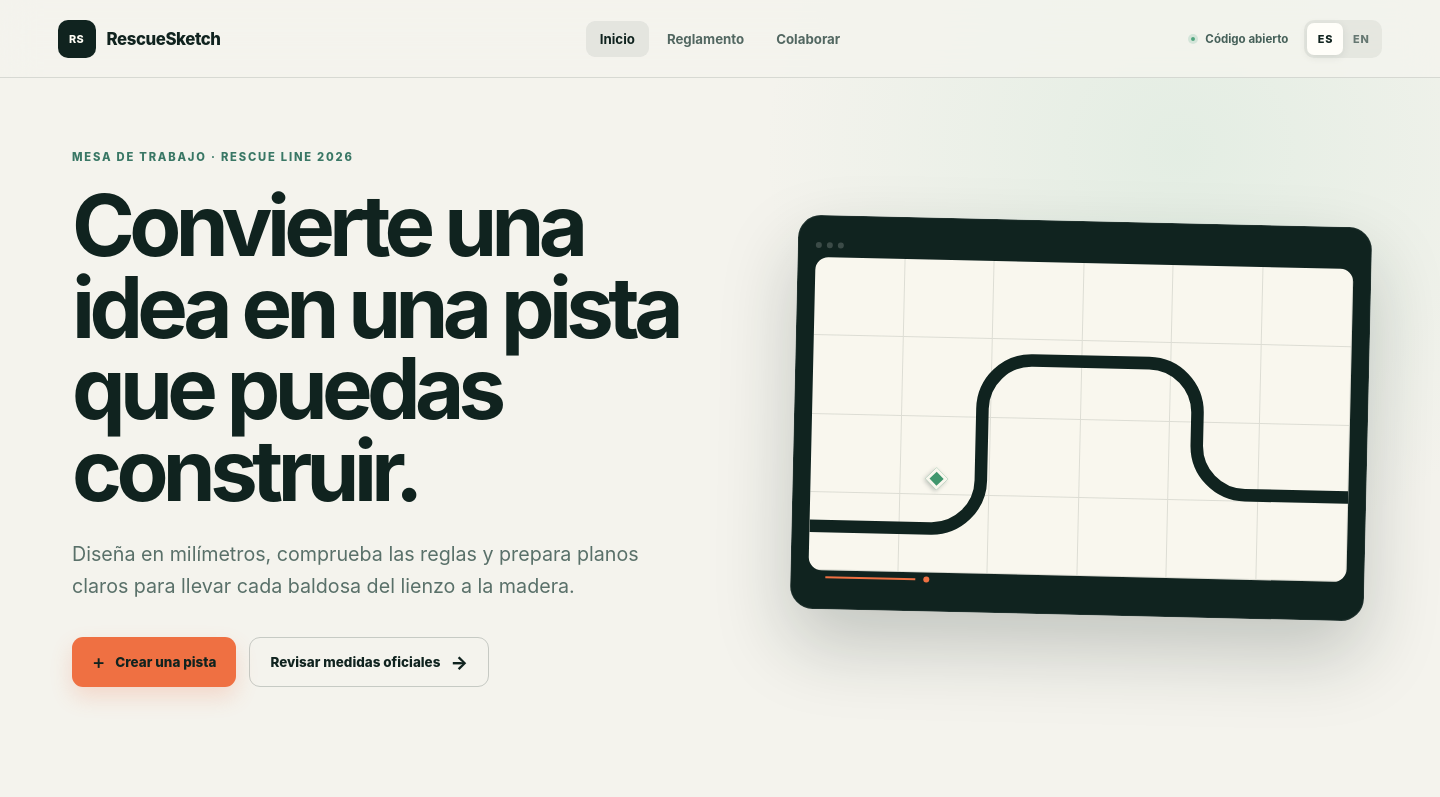
RescueSketchApp › keeps the selected language while navigating to the editor
Step 1. Click the button with aria-label "Cambiar idioma a inglés" → (1361, 38), box [1343,22,1379,54]
(page scrolled)
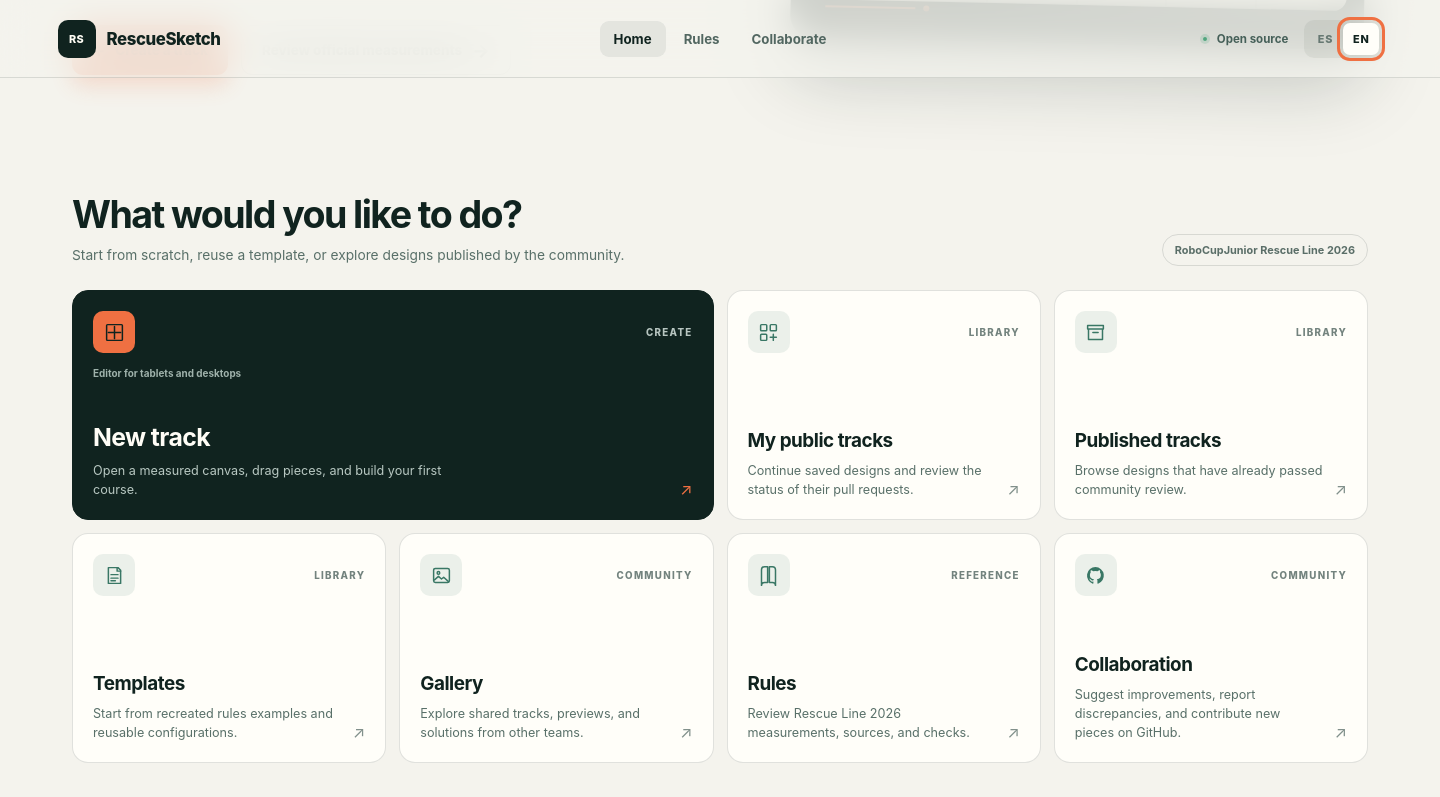
Step 2. Click the link with aria-label "Open New track" → (114, 332), box [72,290,714,520]
(page scrolled)
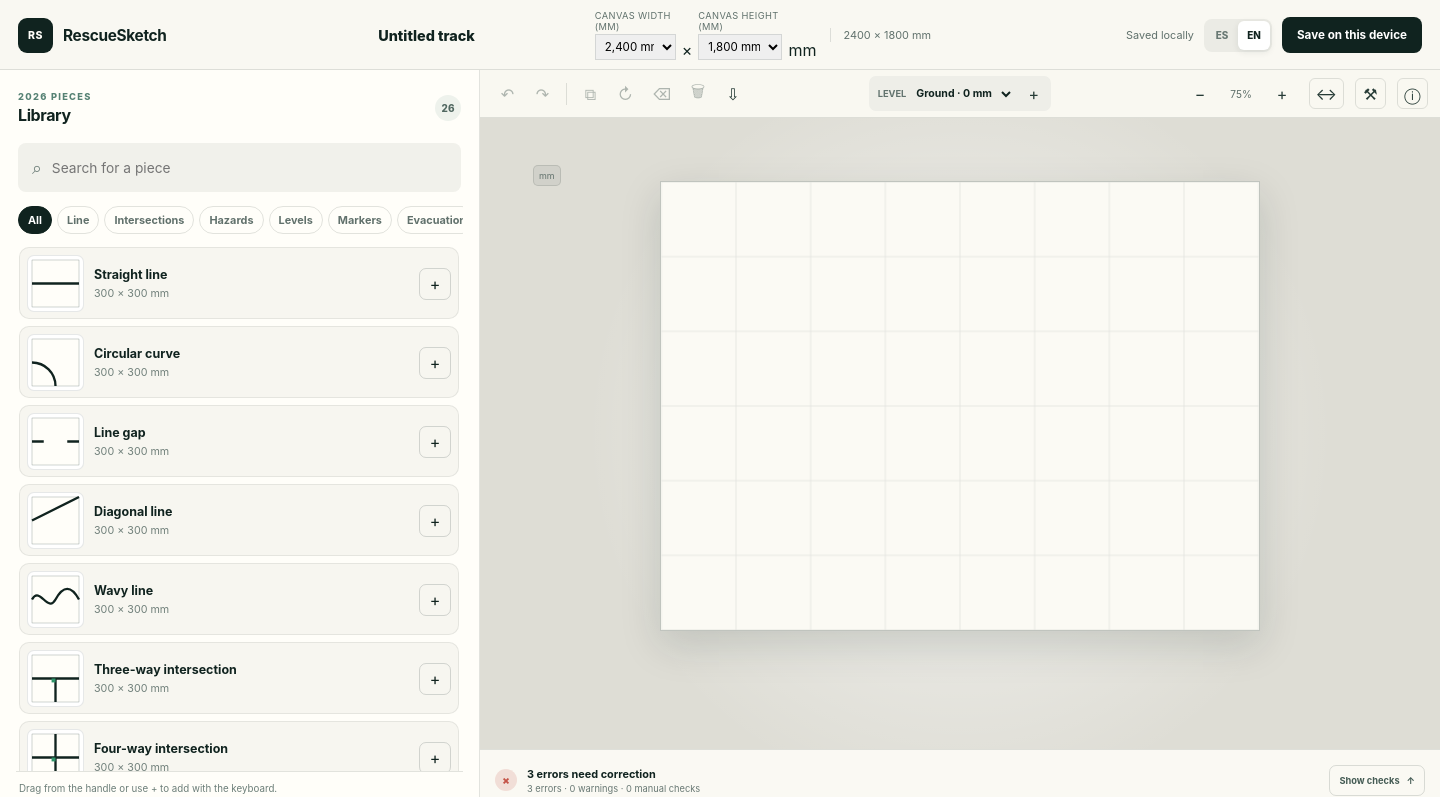
Expected: the text "Straight line" is shown, [94,267,167,282]
